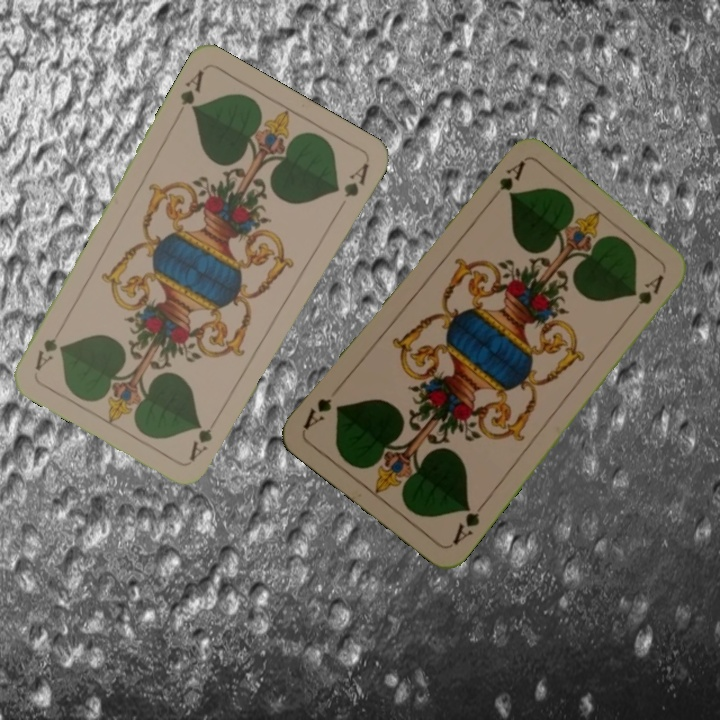GA: (484, 157, 527, 207), (448, 497, 489, 548), (185, 416, 219, 464), (175, 65, 207, 114)
